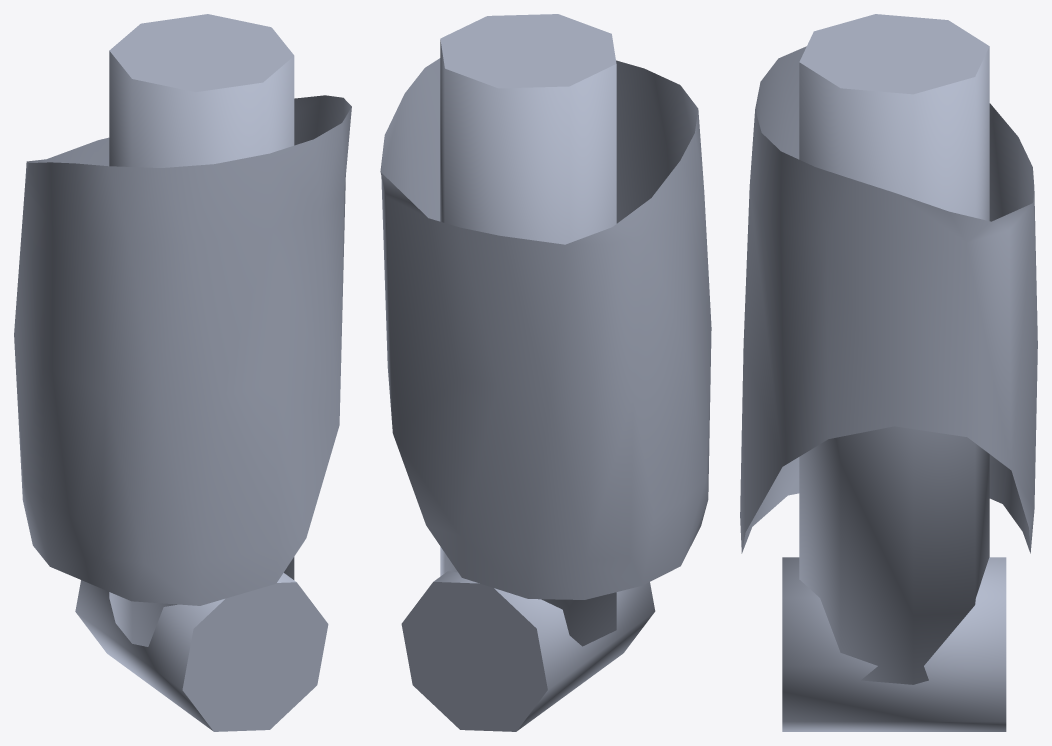
File: l_thigh.dae
3 renders of one model, left to right at view 1: azimuth 30°, elevation 25°; view 2: azimuth 150°, elevation 25°; view 3: azimuth 270°, elevation 25°, orthographic. The views are drawn at different scales.
Parts seen in each view (by area): view 1: l_thigh_mesh; view 2: l_thigh_mesh; view 3: l_thigh_mesh.
Boxes of the visible parts, box(x1,y1,x2,y2) form: l_thigh_mesh: box(14, 14, 351, 731); l_thigh_mesh: box(380, 14, 711, 731); l_thigh_mesh: box(740, 14, 1037, 731).
Bounding box in the file's own units: 0.1173 × 0.1024 × 0.2543.
